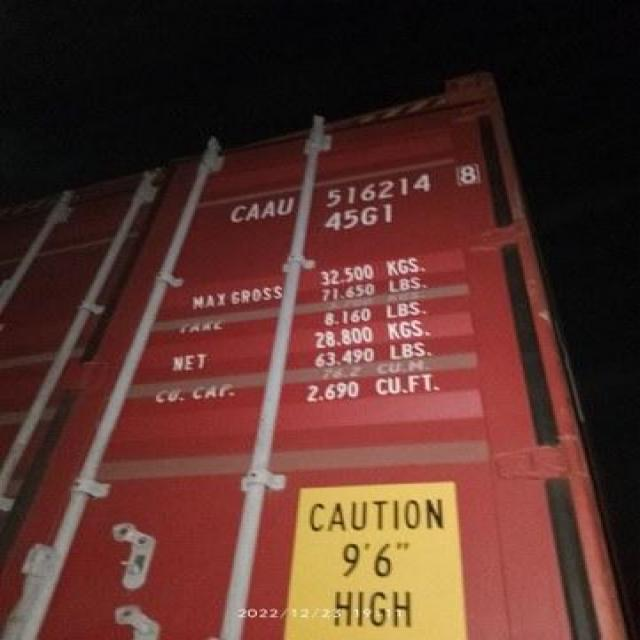container_number_h: (169, 143, 506, 261)
